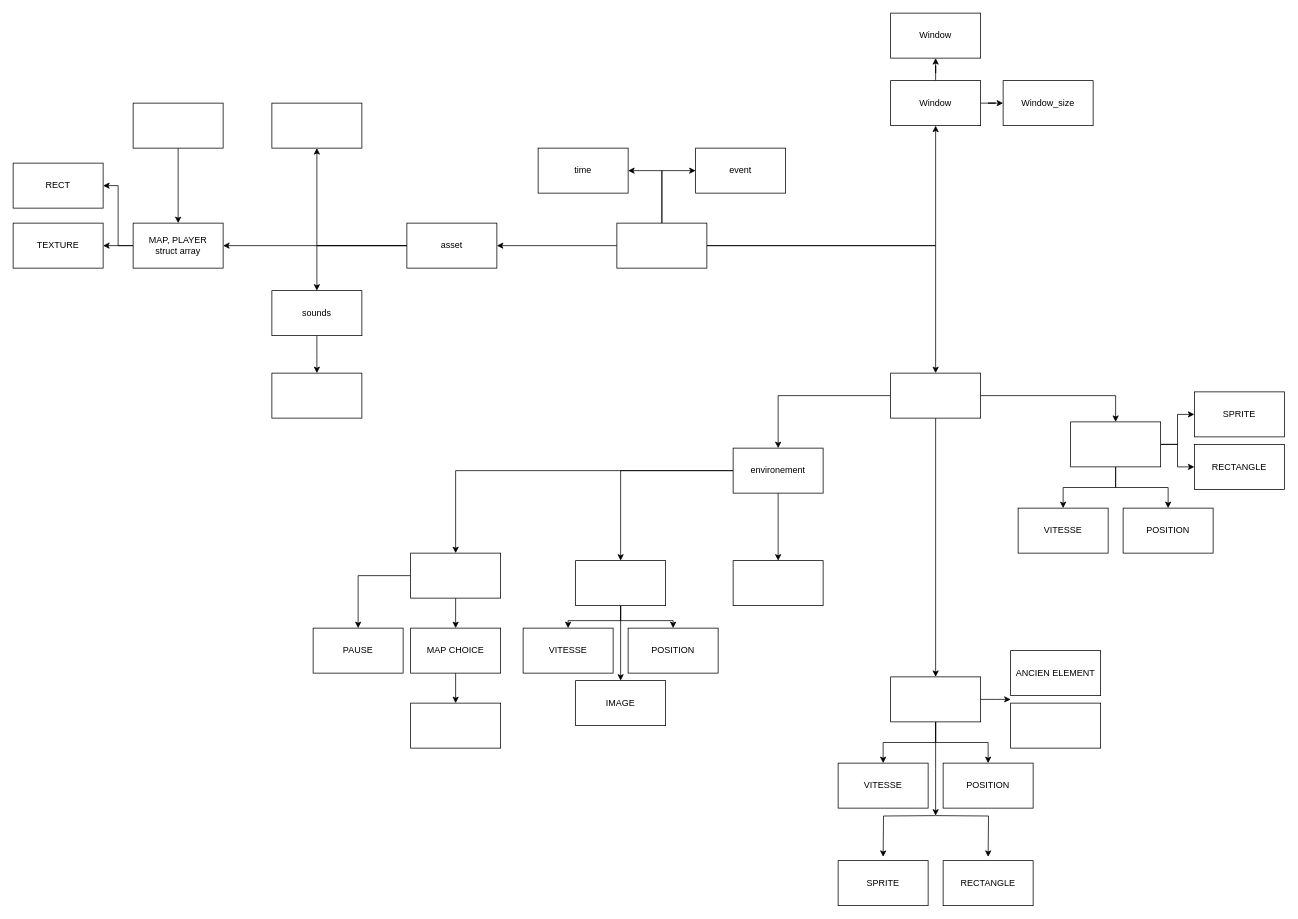
The diagram is 1298 pixels wide and 919 high, and some of its shapes have lost their labels. The centre of each missing label's shape, as x and y in pixels:
BACKGROUND struct array: (x=620, y=583)
ELEMENT SUIVANT: (x=1055, y=725)
engine: (x=661, y=245)
ENUM: (x=177, y=125)
JUMP: (x=316, y=395)
map elements chain list: (x=935, y=699)
MAP NAME ?: (x=455, y=725)
MENU: (x=455, y=575)
MUSIQUE: (x=316, y=125)
object: (x=935, y=395)
player: (x=1115, y=444)
SCORE: (x=777, y=583)
